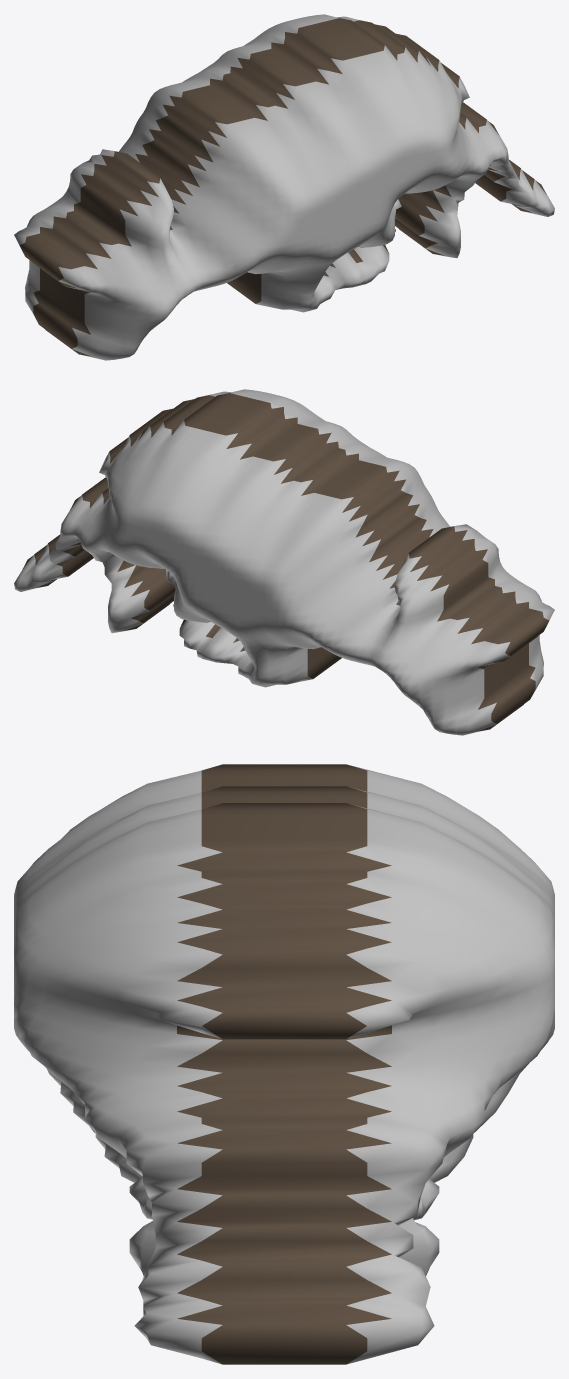
File: carcass.glb
3 views of the same model, one above another, from view 1: azimuth 30°, elevation 25°; view 2: azimuth 150°, elevation 25°; view 3: azimuth 270°, elevation 25° (orthographic). The views are drawn at different scales.
Parts seen in each view (by area): view 1: carcass; view 2: carcass; view 3: carcass.
Boxes of the visible parts, x1,y1,x2,y2 form: carcass: [14, 14, 554, 360]; carcass: [14, 389, 554, 735]; carcass: [14, 764, 554, 1364].
Bounding box in the file's own units: 0.9386 × 0.4363 × 0.49.
